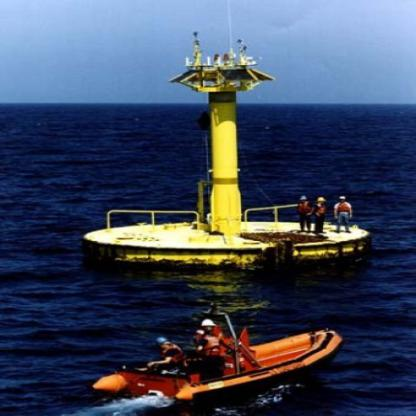buoy: (69, 6, 380, 271)
